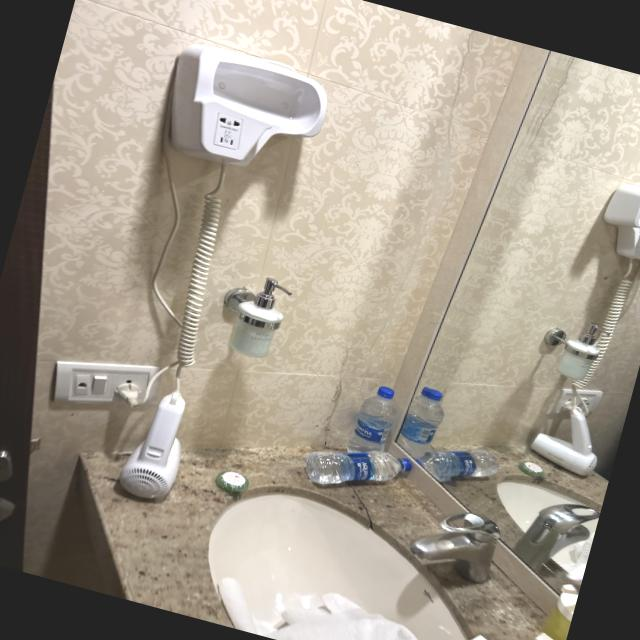mess: (22, 332, 610, 640)
